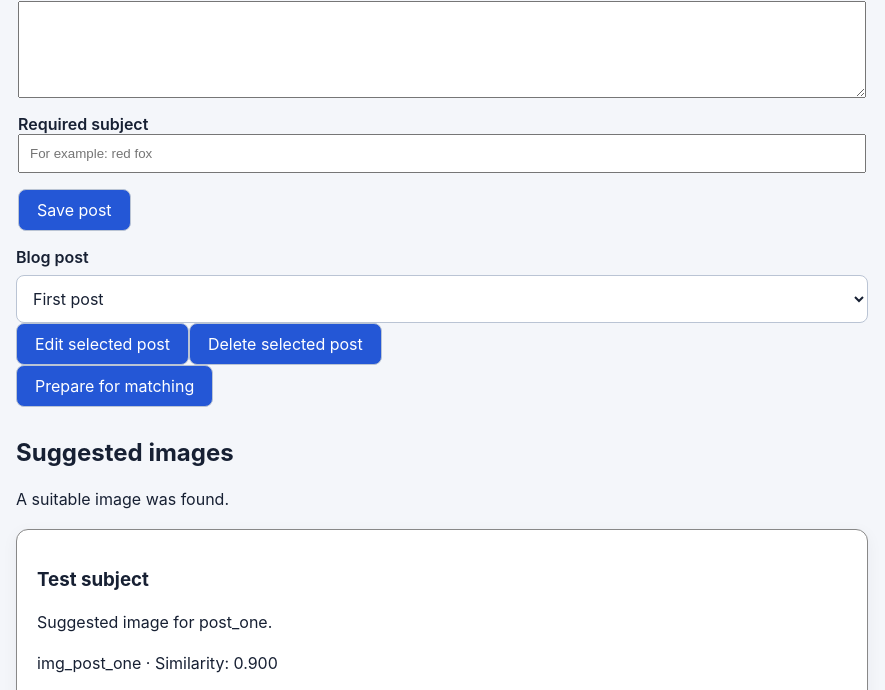
Test: deleting the last post clears selection and recommendations
(page scrolled)
Click the button "Delete selected post" at {"x": 285, "y": 344}, box left=189, top=323, right=382, bottom=365
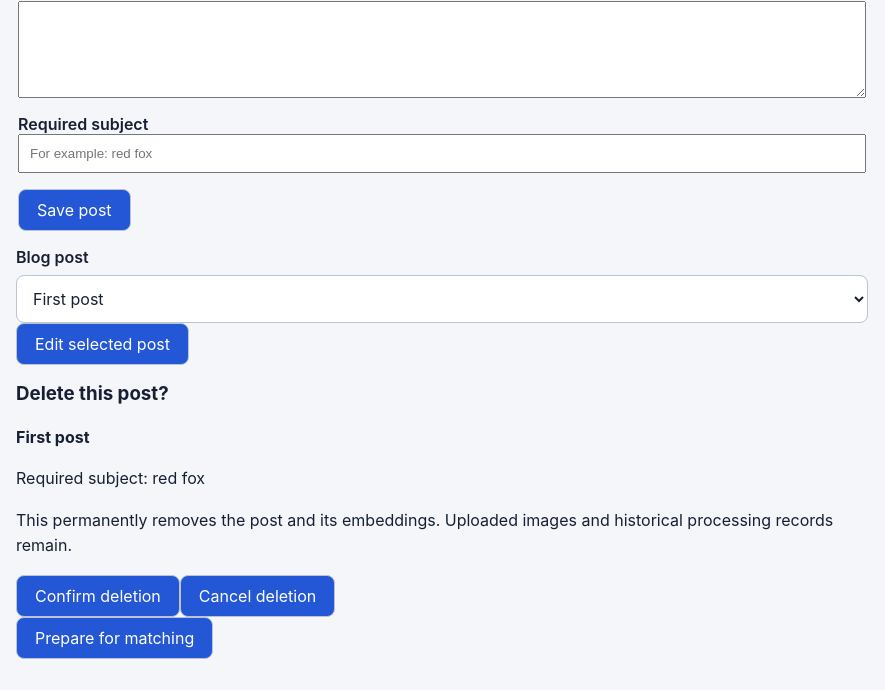
Check: the text "First post" is shown, box left=16, top=426, right=90, bottom=446
Click the button "Confirm deletion" at {"x": 98, "y": 596}, box left=16, top=575, right=180, bottom=617
(page scrolled)
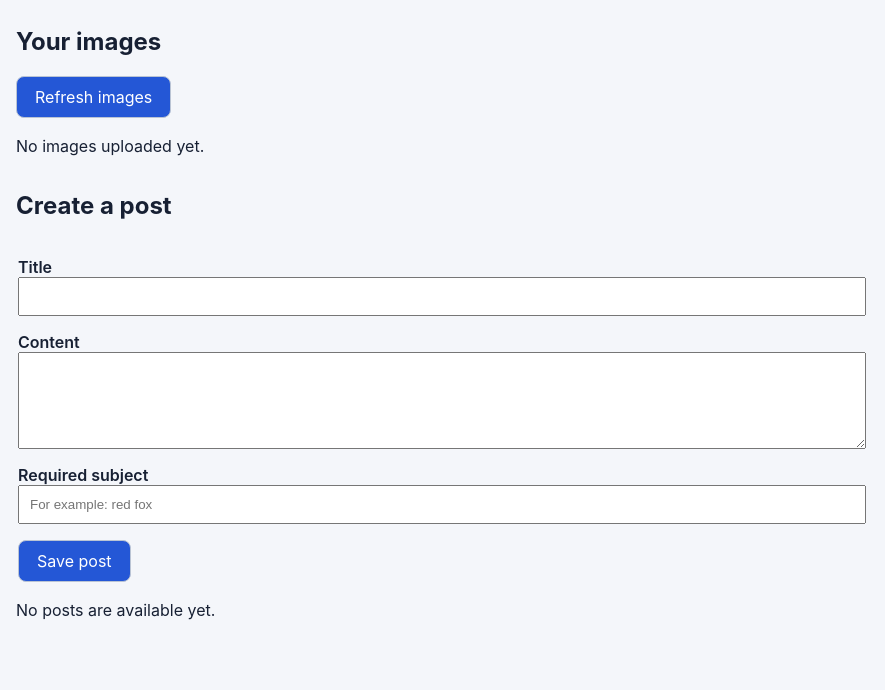
Check: the text "No posts are available yet." is shown, box left=16, top=600, right=215, bottom=620
Check: the label "Blog post" is gone
Check: the label "Delete selected post" is gone
